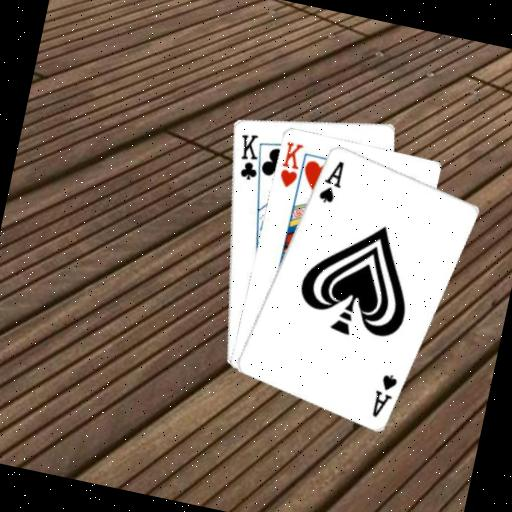AS: (366, 368, 400, 422), (314, 154, 348, 206)
KC: (229, 128, 272, 187)
KH: (274, 137, 305, 189)
